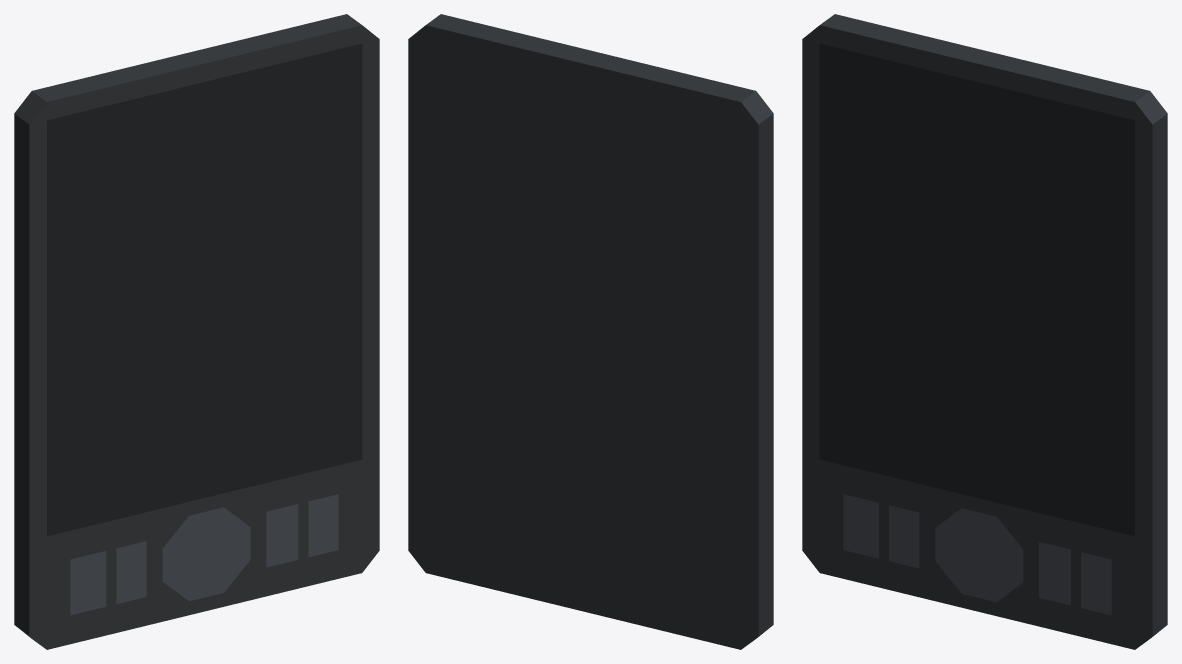
Rendered from tablet.glb.
3 views of the same model, side by side, from view 1: azimuth 30°, elevation 25°; view 2: azimuth 150°, elevation 25°; view 3: azimuth 330°, elevation 25° (orthographic).
Visible parts, largest first — view 1: SM_Prop_GraphicsTablet_01.001; view 2: SM_Prop_GraphicsTablet_01.001; view 3: SM_Prop_GraphicsTablet_01.001.
Boxes of the visible parts, bbox=[...] form: SM_Prop_GraphicsTablet_01.001: bbox=[14, 14, 379, 649]; SM_Prop_GraphicsTablet_01.001: bbox=[408, 14, 773, 649]; SM_Prop_GraphicsTablet_01.001: bbox=[802, 14, 1167, 649].
Size of what is drawn, in the model's own units: 0.3032 by 0.4531 by 0.0229.
Materials: 1 (1 with a texture image).
